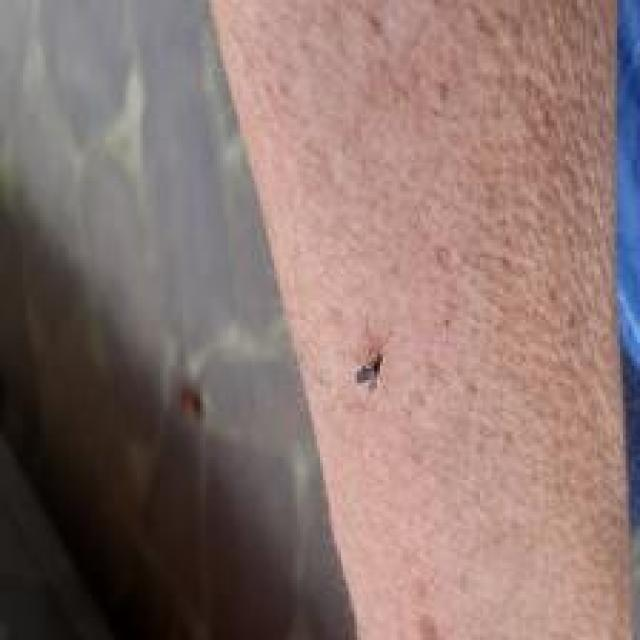Aedes albopictus: (353, 350, 384, 393)
